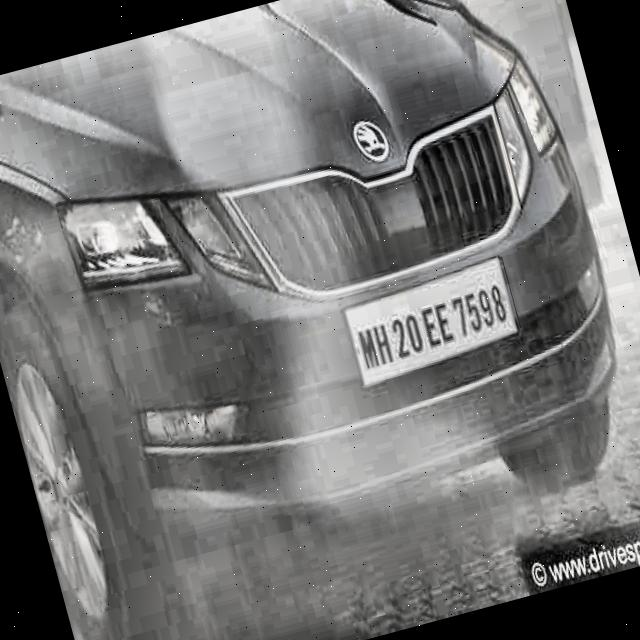license_plate: (342, 264, 520, 387)
